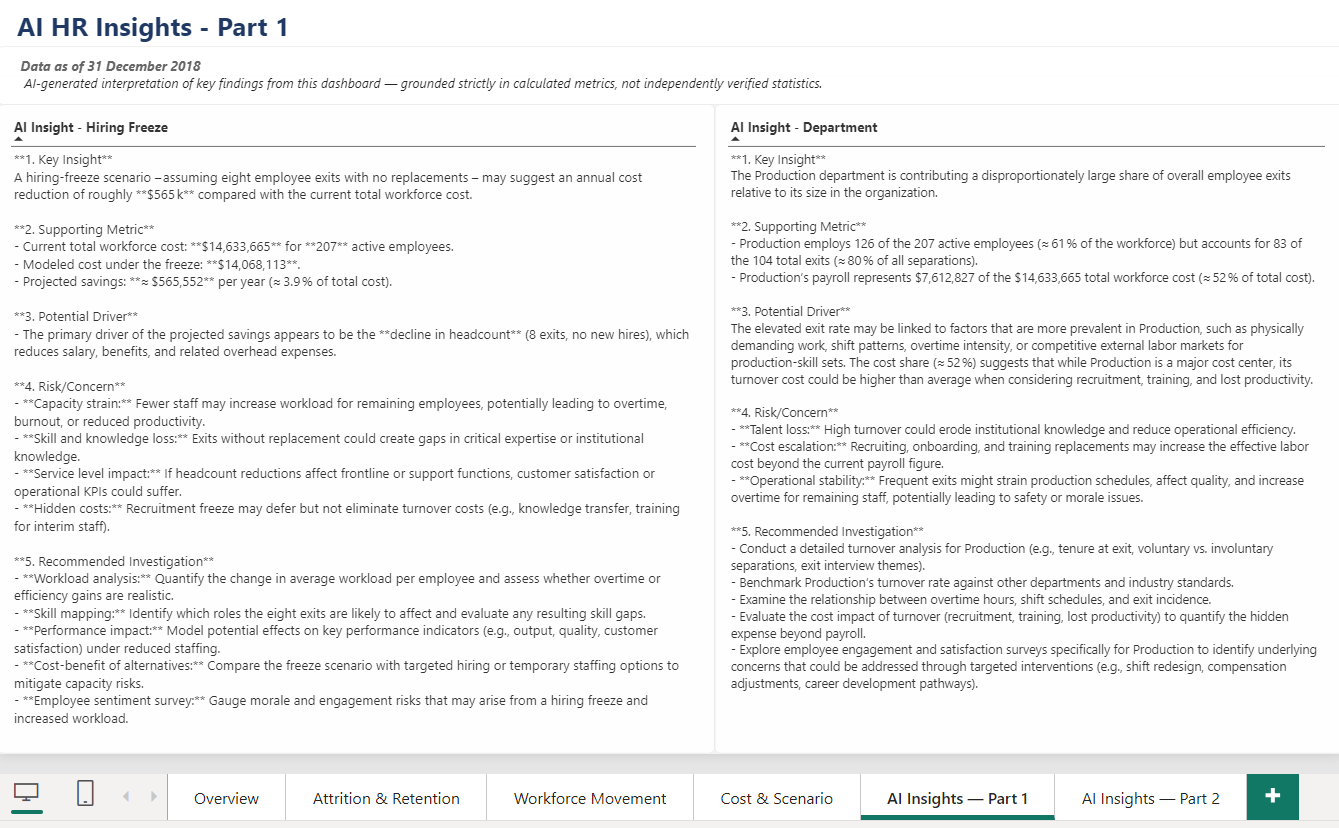

Layout of this report page (visuals, bound fields, positions):
{"tool":"powerbi","page":{"name":"AI Insights — Part 1","canvas":[1920,1080],"ordinal":4},"visuals":[{"type":"group","id":"g1","title":"Group 1","box":[0,0,1920.8,153],"z":0},{"type":"textbox","box":[0,0,1920.8,112.4],"z":0,"group":"g1"},{"type":"textbox","box":[0,69.3,1920.8,83.7],"z":1000,"group":"g1"},{"type":"tableEx","fields":{"Values":["AI Insight - Hiring Freeze.AI Insight - Hiring Freeze"]},"box":[0,153,1022.8,926.2],"z":1000},{"type":"tableEx","fields":{"Values":["AI Insight - Department.AI Insight - Department"]},"box":[1022.8,153,898,926.2],"z":2000}]}

Visuals, with their boxes on the page's 1920x1080 design canvas (x1, y1, x2, y2). These are canvas units, not pixel positions in the 1339x828 screenshot, which may show the page scaled, cropped or inside an application window:
"Group 1" group: [x1=0, y1=0, x2=1921, y2=153]
textbox: [x1=0, y1=0, x2=1921, y2=112]
textbox: [x1=0, y1=69, x2=1921, y2=153]
tableEx - AI Insight - Hiring Freeze.AI Insight - Hiring Freeze: [x1=0, y1=153, x2=1023, y2=1079]
tableEx - AI Insight - Department.AI Insight - Department: [x1=1023, y1=153, x2=1921, y2=1079]
